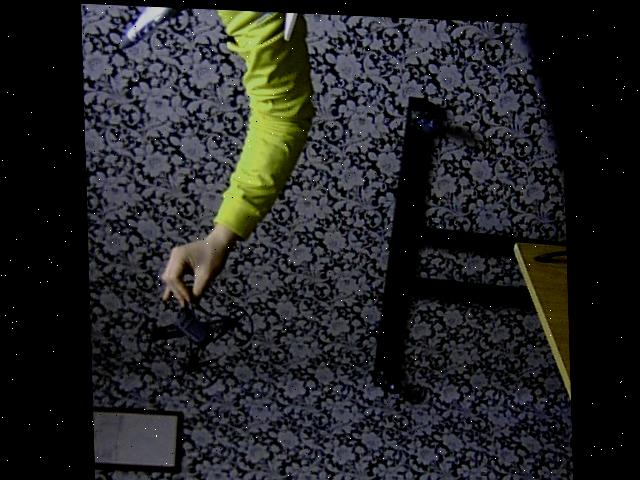drone: (122, 256, 249, 398)
